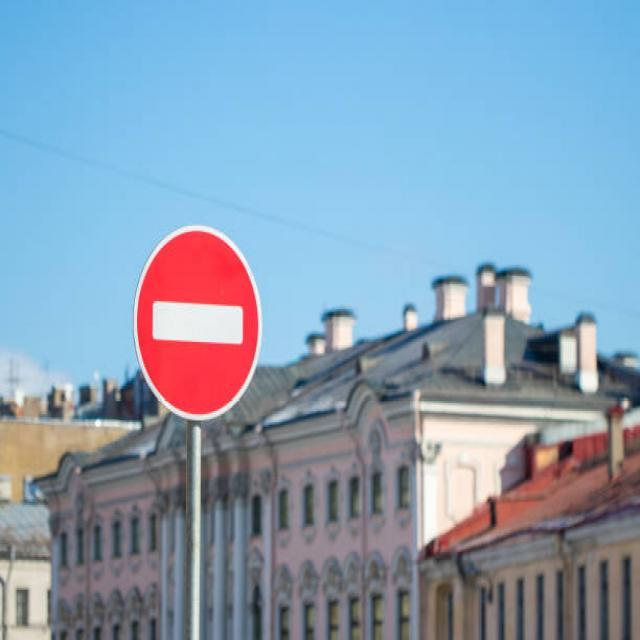do_not_enter: (130, 215, 265, 429)
